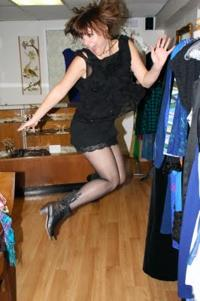person: (16, 4, 174, 241)
